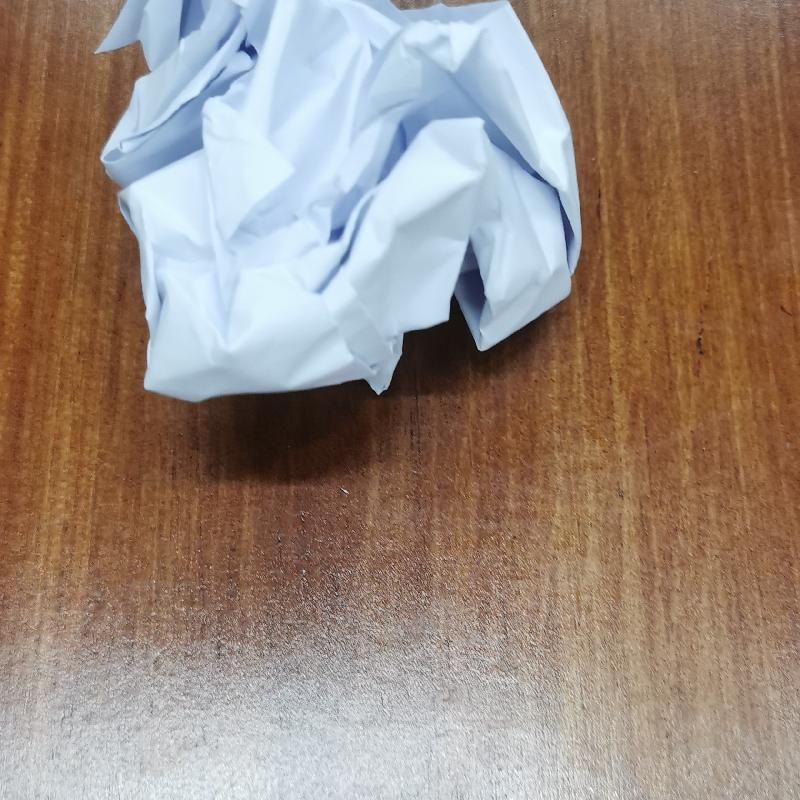spitball: (88, 0, 583, 404)
